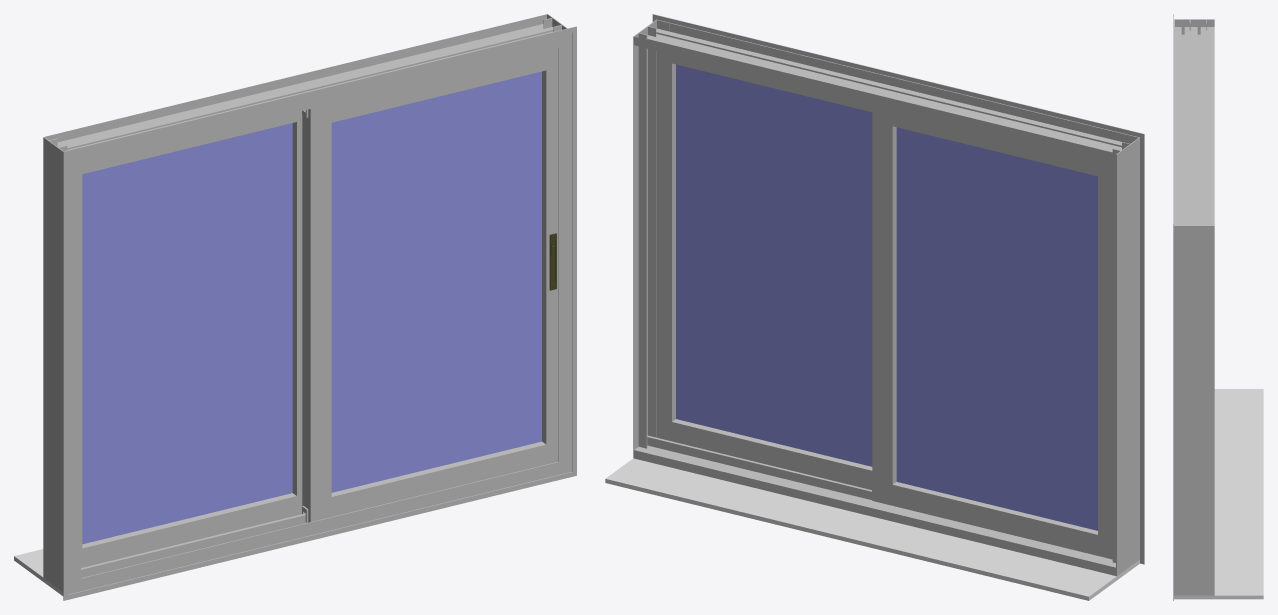
The model's file is mad.fbx.
3 views of the same model, side by side, from view 1: azimuth 30°, elevation 25°; view 2: azimuth 150°, elevation 25°; view 3: azimuth 270°, elevation 25° (orthographic). The views are drawn at different scales.
Parts seen in each view (by area): view 1: Window.R, Window.L, WindowFrame; view 2: Window.L, Window.R, WindowFrame, Windows_Sill; view 3: WindowFrame, Windows_Sill.
Boxes of the visible parts, left/top/right/bottom form: Window.R: left=302, top=48, right=558, bottom=522; Window.L: left=81, top=111, right=302, bottom=567; WindowFrame: left=43, top=14, right=576, bottom=600; Window.L: left=872, top=103, right=1112, bottom=559; Window.R: left=656, top=51, right=872, bottom=489; WindowFrame: left=633, top=14, right=1144, bottom=576; Windows_Sill: left=605, top=458, right=1139, bottom=600; WindowFrame: left=1173, top=14, right=1214, bottom=600; Windows_Sill: left=1174, top=389, right=1263, bottom=599.
Size of the model in its own units: 122 by 102 by 22.2.
